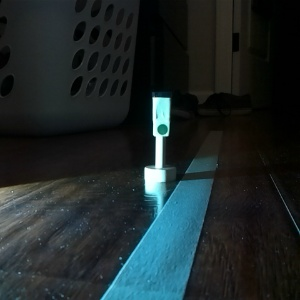traffic light green: (142, 89, 178, 185)
